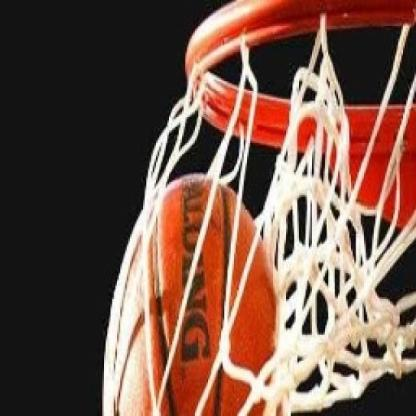basketball: (93, 172, 290, 416)
